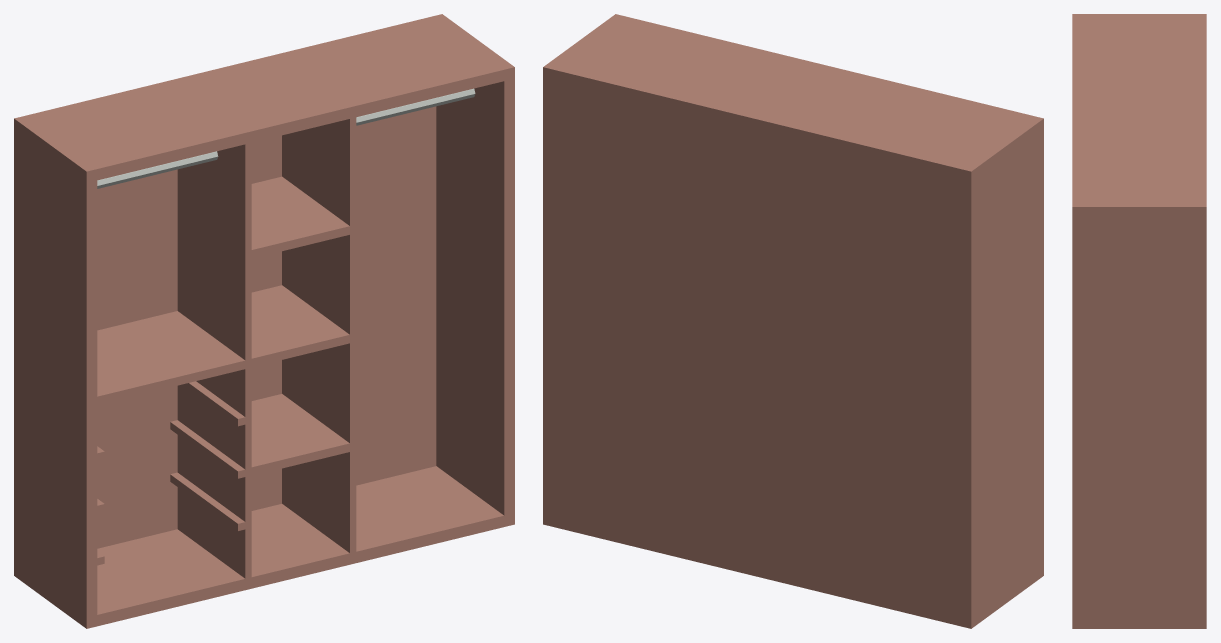
File: Armoire2.fbx
The picture shows the model from 3 angles, left to right: view 1: azimuth 30°, elevation 25°; view 2: azimuth 150°, elevation 25°; view 3: azimuth 270°, elevation 25°; orthographic projection. The views are drawn at different scales.
Parts seen in each view (by area): view 1: armoireSansPorte; view 2: armoireSansPorte; view 3: armoireSansPorte.
Part boxes in pixels (x1,y1,x2,y2): armoireSansPorte: (14, 14, 514, 628); armoireSansPorte: (543, 14, 1043, 628); armoireSansPorte: (1072, 14, 1206, 628).
Size of the model in its own units: 681 by 695 by 200.
